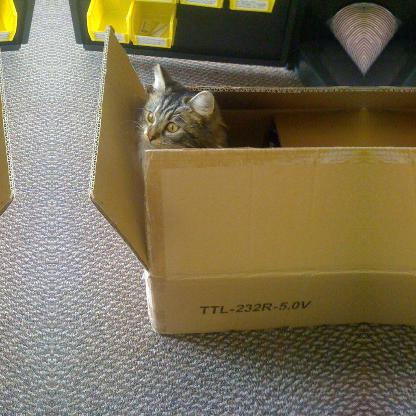Cat: (124, 60, 230, 170)
